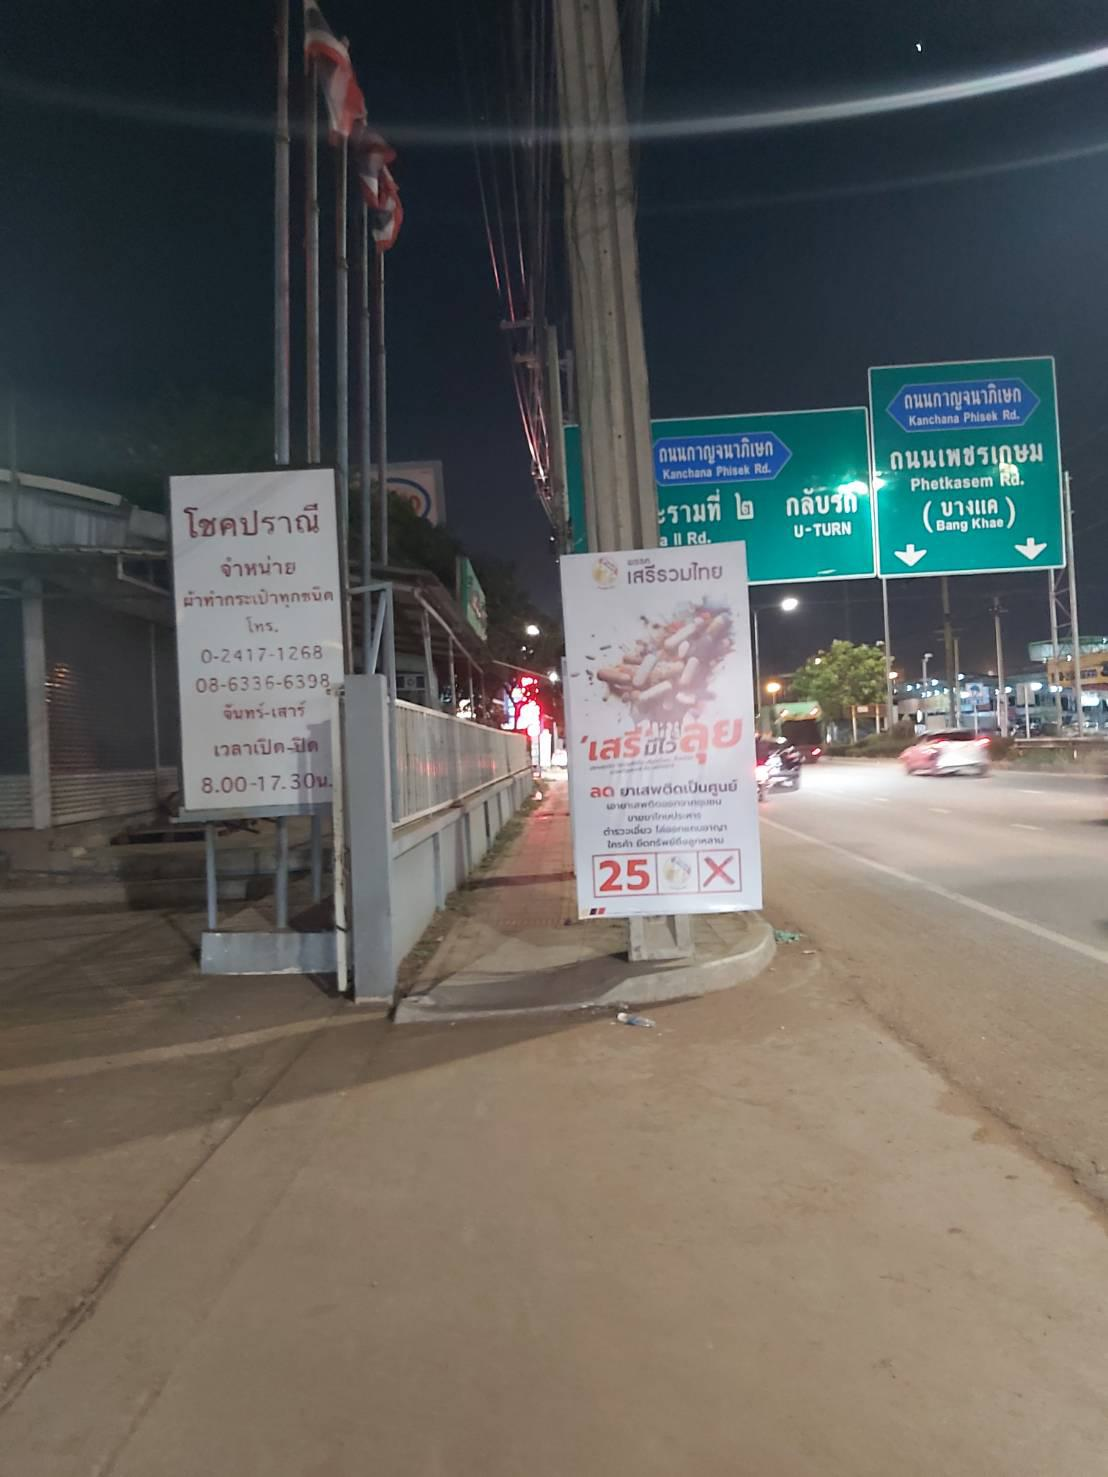Banner: (554, 533, 801, 935)
